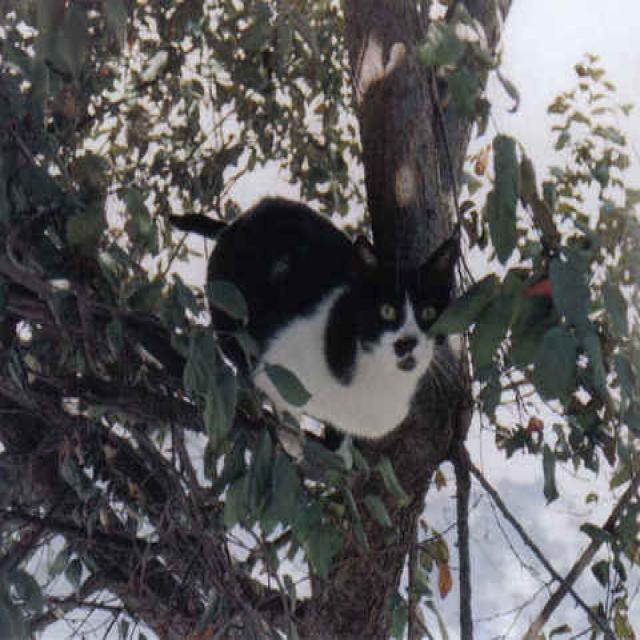left eye: (416, 300, 439, 326)
